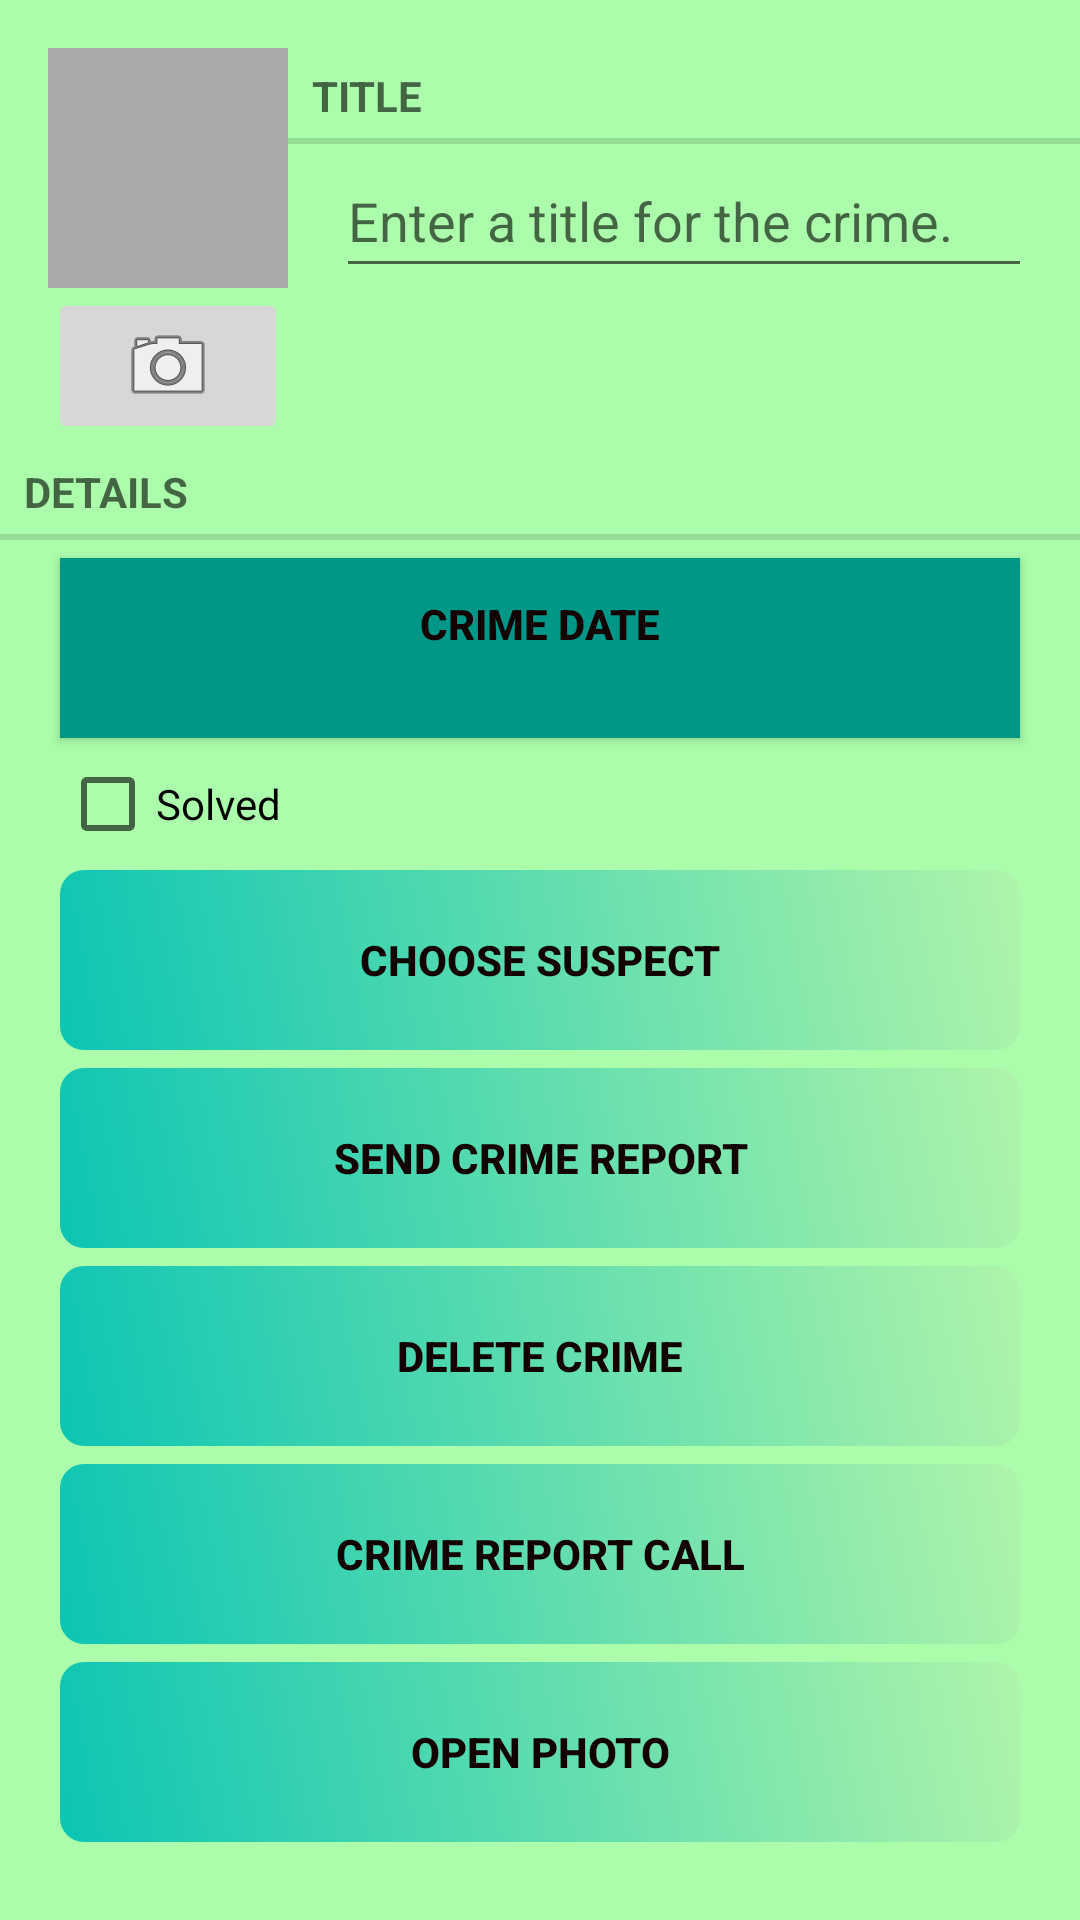

Screen size 1080px x 1920px. Icon name, then its box in pixels as (x1, y1, x2, y2):
camera: (60, 306, 276, 426)
